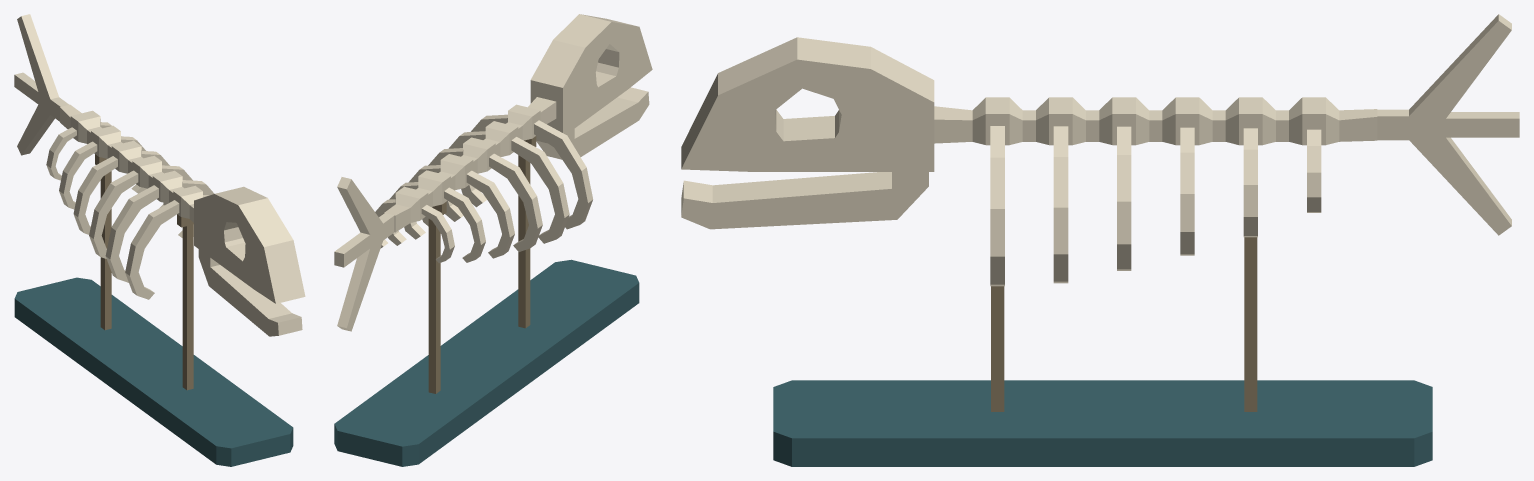
3 views of the same model, side by side, from view 1: azimuth 30°, elevation 25°; view 2: azimuth 150°, elevation 25°; view 3: azimuth 270°, elevation 25° (orthographic). The views are drawn at different scales.
Visible parts, largest first — view 1: DedicatedLongBase, ThickOrbitalSkull, ContinuousVertebralBackbone, ContinuousThreeRayTail, FixedLowerJaw, FixedSupportPost_0, CurvedRib_0_L, CurvedRib_1_L, CurvedRib_2_L, FixedSupportPost_1, CurvedRib_3_L, CurvedRib_4_L (+1 smaller); view 2: DedicatedLongBase, ThickOrbitalSkull, ContinuousVertebralBackbone, ContinuousThreeRayTail, FixedLowerJaw, FixedSupportPost_1, CurvedRib_0_L, CurvedRib_1_L, CurvedRib_2_L, FixedSupportPost_0, CurvedRib_3_L, CurvedRib_4_L (+4 smaller); view 3: DedicatedLongBase, ThickOrbitalSkull, ContinuousVertebralBackbone, FixedLowerJaw, ContinuousThreeRayTail, CurvedRib_1_R, FixedSupportPost_1, CurvedRib_0_R, CurvedRib_2_R, CurvedRib_3_R, FixedSupportPost_0, CurvedRib_4_R (+1 smaller).
Boxes of the visible parts, bbox=[...] form: DedicatedLongBase: bbox=[14, 277, 293, 466]; ThickOrbitalSkull: bbox=[194, 186, 305, 303]; ContinuousVertebralBackbone: bbox=[60, 104, 202, 222]; ContinuousThreeRayTail: bbox=[14, 14, 68, 155]; FixedLowerJaw: bbox=[198, 249, 302, 336]; FixedSupportPost_0: bbox=[182, 224, 193, 390]; CurvedRib_0_L: bbox=[125, 200, 179, 299]; CurvedRib_1_L: bbox=[105, 185, 158, 282]; CurvedRib_2_L: bbox=[89, 170, 138, 258]; FixedSupportPost_1: bbox=[100, 171, 111, 330]; CurvedRib_3_L: bbox=[73, 156, 117, 234]; CurvedRib_4_L: bbox=[59, 141, 97, 209]; DedicatedLongBase: bbox=[334, 259, 639, 466]; ThickOrbitalSkull: bbox=[530, 14, 652, 134]; ContinuousVertebralBackbone: bbox=[384, 97, 556, 232]; ContinuousThreeRayTail: bbox=[334, 177, 394, 331]; FixedLowerJaw: bbox=[536, 87, 649, 159]; FixedSupportPost_1: bbox=[428, 219, 440, 393]; CurvedRib_0_L: bbox=[534, 120, 593, 229]; CurvedRib_1_L: bbox=[511, 137, 569, 243]; CurvedRib_2_L: bbox=[489, 153, 542, 251]; FixedSupportPost_0: bbox=[518, 155, 530, 328]; CurvedRib_3_L: bbox=[466, 170, 514, 258]; CurvedRib_4_L: bbox=[444, 187, 485, 262]; DedicatedLongBase: bbox=[773, 380, 1432, 466]; ThickOrbitalSkull: bbox=[681, 37, 934, 171]; ContinuousVertebralBackbone: bbox=[934, 97, 1377, 145]; FixedLowerJaw: bbox=[681, 172, 928, 229]; ContinuousThreeRayTail: bbox=[1377, 14, 1519, 235]; CurvedRib_1_R: bbox=[1053, 126, 1068, 283]; FixedSupportPost_1: bbox=[1244, 237, 1257, 411]; CurvedRib_0_R: bbox=[990, 126, 1004, 286]; CurvedRib_2_R: bbox=[1117, 126, 1131, 270]; CurvedRib_3_R: bbox=[1180, 127, 1194, 255]; FixedSupportPost_0: bbox=[991, 286, 1004, 411]; CurvedRib_4_R: bbox=[1243, 128, 1257, 237].
Bounding box in the file's own units: 0.82 × 1.76 × 3.18.
